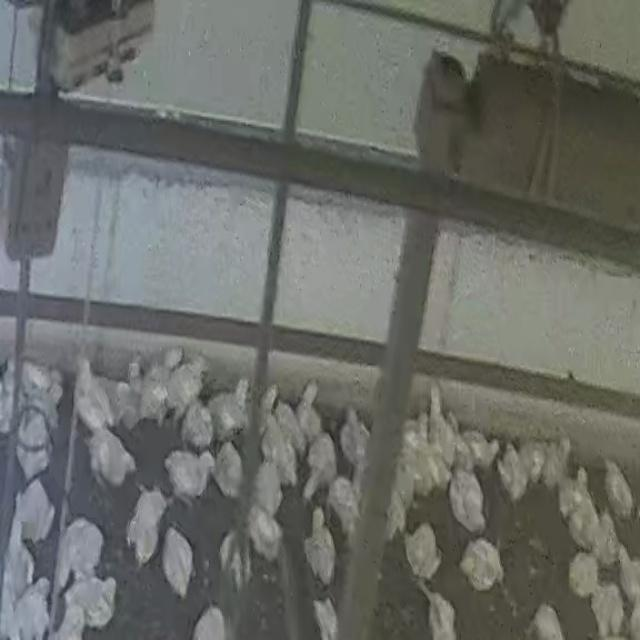chicken: (53, 516, 107, 594), (72, 355, 118, 436), (82, 428, 140, 492), (126, 486, 170, 566), (163, 447, 216, 509), (12, 476, 57, 548), (447, 467, 490, 537), (14, 410, 56, 479), (303, 506, 339, 586), (8, 578, 54, 640), (457, 535, 505, 593), (324, 474, 362, 543), (161, 528, 197, 600), (244, 502, 284, 564), (303, 432, 338, 501), (406, 521, 446, 579), (338, 406, 370, 475), (601, 457, 635, 521), (495, 444, 531, 504), (590, 579, 626, 638), (211, 442, 246, 502), (422, 582, 458, 639), (294, 380, 324, 448), (182, 398, 218, 448), (567, 550, 601, 600), (526, 601, 566, 640), (192, 604, 228, 640), (312, 597, 339, 640)
